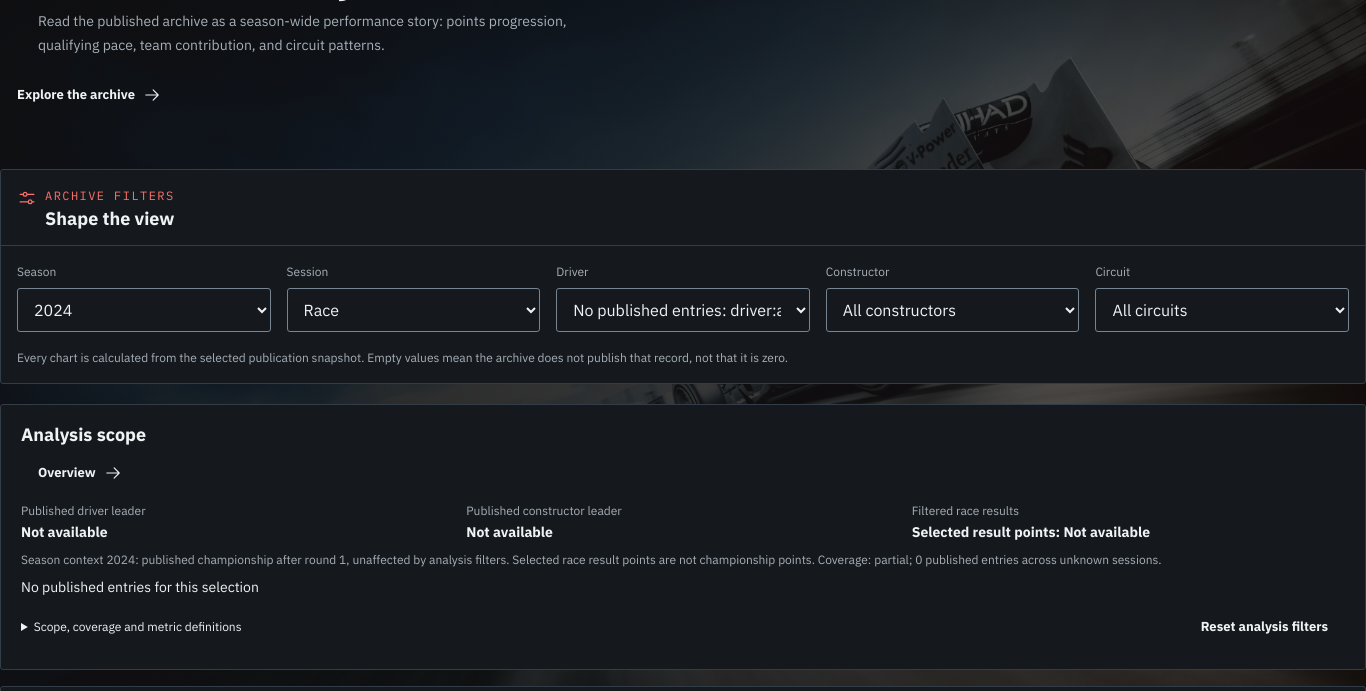
Scenario: UX-08 invalid URL selection is explained, remains visible, and resets explicitly
This screenshot has width=1366, height=691.
Expected: the text "No published entries for this selection" is shown, [21, 578, 259, 596]
Expected: the dropdown labelled "Driver" shows "No published entries: driver:archive-only", [556, 288, 810, 332]
Click the button "Reset analysis filters" at point(1264, 627), box [1184, 605, 1345, 649]
(page scrolled)
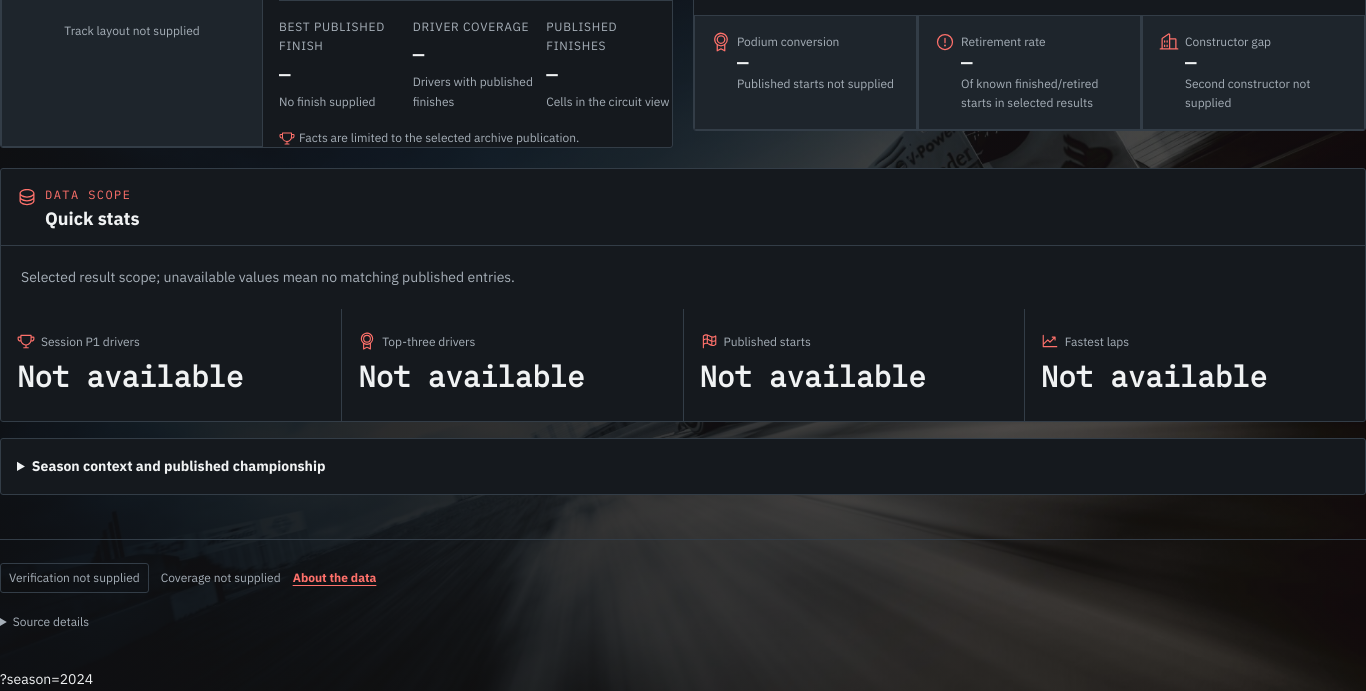
Expected: the text named "Current URL" reads "?season=2024", [0, 670, 93, 688]
